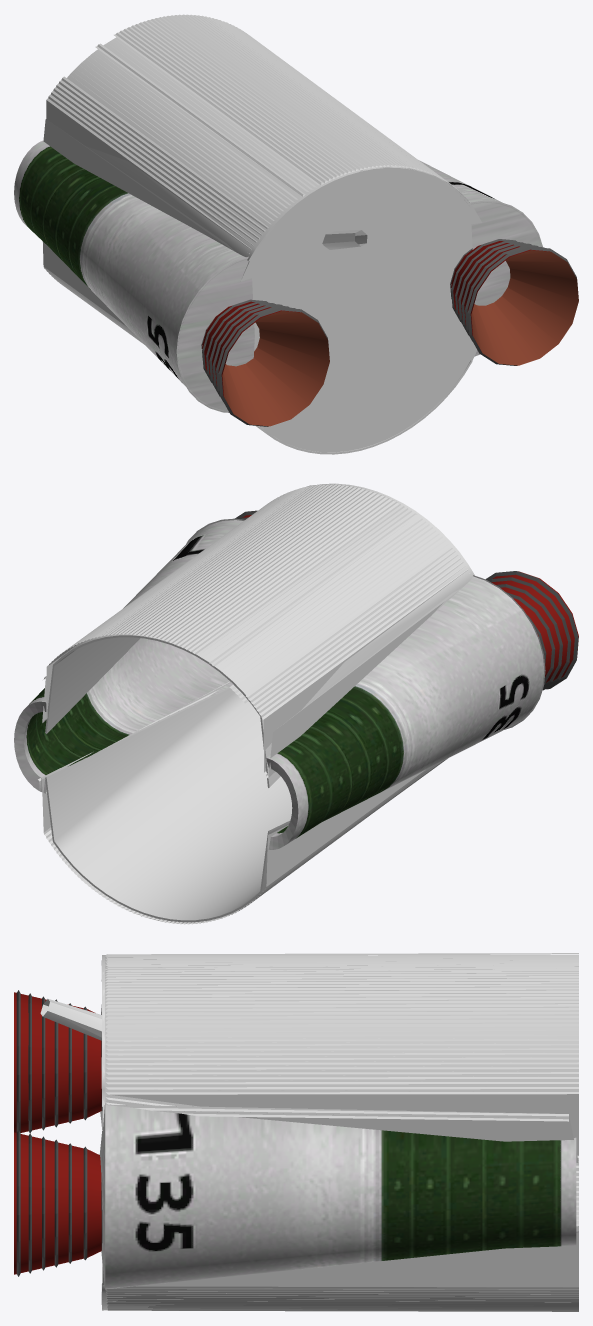
File: boosterpackagema-5as.obj
3 renders of one model, top to bottom at view 1: azimuth 30°, elevation 25°; view 2: azimuth 150°, elevation 25°; view 3: azimuth 270°, elevation 25°, orthographic. The views are drawn at different scales.
Visible parts, largest first — view 1: group637, group665, group661, group662, group663, group664, group543, group666, group667, group535, group297, group0 (+2 smaller); view 2: group661, group665, group664, group297, group543, group666, group535, group673, group668; view 3: group664, group47, group667, group666, group78, group70, group661, group0, group576, group102, group106, group575 (+167 smaller).
Part boxes in pixels (bbox=[...]): group637: bbox=[240, 166, 482, 452]; group665: bbox=[14, 140, 254, 412]; group661: bbox=[67, 37, 472, 454]; group662: bbox=[222, 311, 329, 426]; group663: bbox=[471, 250, 578, 365]; group664: bbox=[419, 160, 542, 356]; group543: bbox=[43, 119, 217, 239]; group666: bbox=[202, 301, 301, 406]; group667: bbox=[451, 241, 549, 344]; group535: bbox=[46, 100, 249, 248]; group297: bbox=[42, 241, 127, 327]; group0: bbox=[322, 230, 367, 249]; group661: bbox=[45, 483, 474, 922]; group665: bbox=[266, 575, 545, 849]; group664: bbox=[14, 518, 244, 793]; group297: bbox=[266, 770, 424, 886]; group543: bbox=[268, 602, 443, 777]; group666: bbox=[491, 571, 578, 682]; group535: bbox=[263, 570, 467, 772]; group673: bbox=[485, 571, 578, 689]; group668: bbox=[489, 577, 571, 690]; group664: bbox=[99, 1103, 576, 1289]; group47: bbox=[140, 1243, 578, 1287]; group667: bbox=[14, 1132, 101, 1274]; group666: bbox=[14, 992, 101, 1132]; group78: bbox=[110, 1094, 578, 1155]; group70: bbox=[110, 1104, 578, 1162]; group661: bbox=[101, 955, 549, 1310]; group0: bbox=[40, 999, 101, 1040]; group576: bbox=[105, 1069, 550, 1072]; group102: bbox=[153, 1064, 578, 1067]; group106: bbox=[120, 1059, 578, 1062]; group575: bbox=[105, 1065, 560, 1067].
Bounding box in the file's own units: 4.1 × 2.99 × 4.72.
5 materials, 1 textured.
